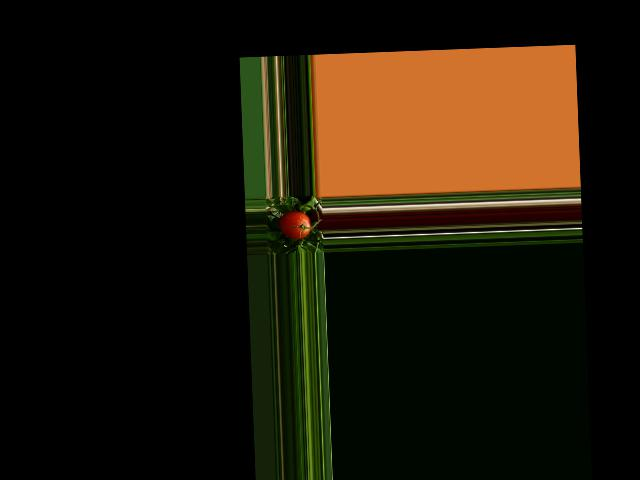tomato: (279, 211, 311, 240)
